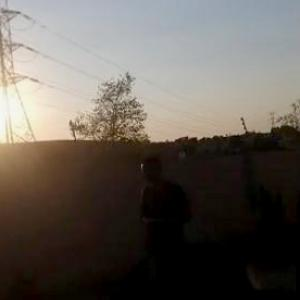follow: (134, 149, 196, 299)
